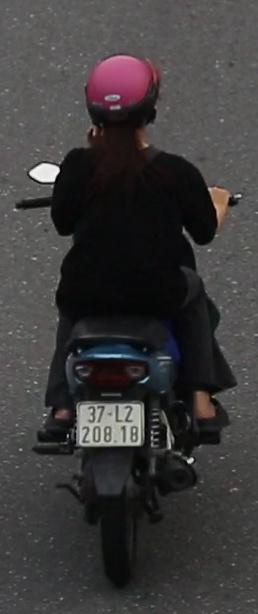LP: (74, 395, 148, 450)
helmet: (82, 49, 165, 152)
